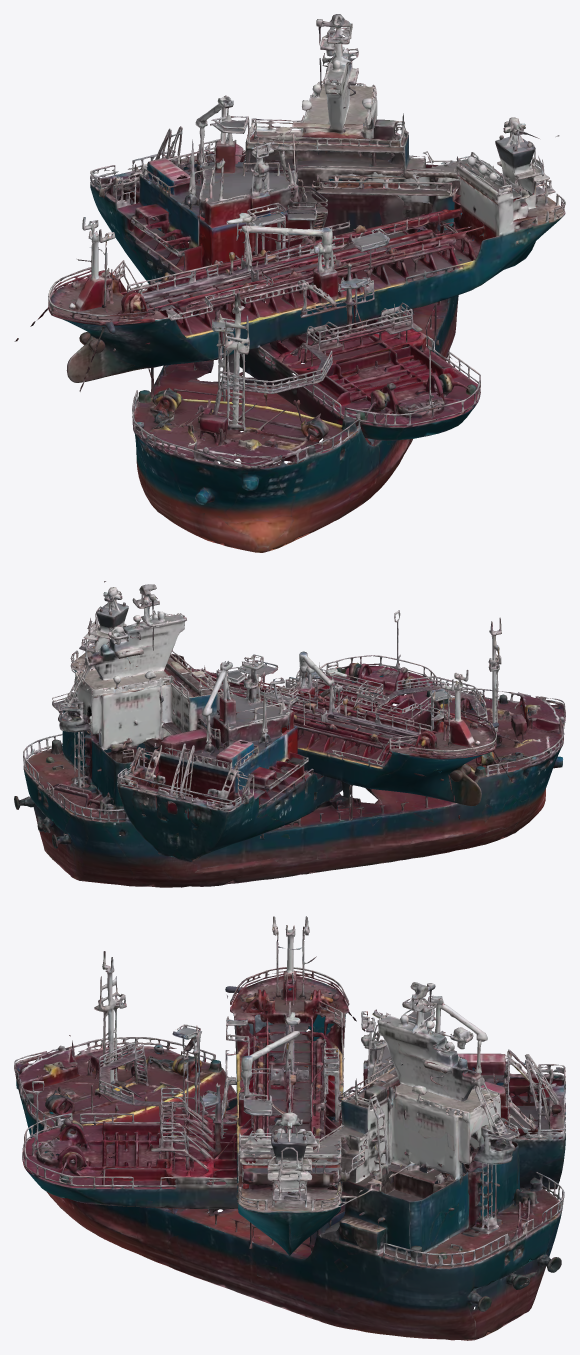
File: multi_union_2026-05-06T095403.702.glb
3 views of the same model, one above another, from view 1: azimuth 30°, elevation 25°; view 2: azimuth 150°, elevation 25°; view 3: azimuth 270°, elevation 25° (orthographic). The views are drawn at different scales.
Parts seen in each view (by area): view 1: world; view 2: world; view 3: world.
Part boxes in pixels (left/top/right/bottom): world: left=14, top=14, right=565, bottom=552; world: left=14, top=581, right=565, bottom=887; world: left=14, top=916, right=565, bottom=1340.
Size of the model in its own units: 1 by 0.6223 by 1.
1 material, 1 textured.
